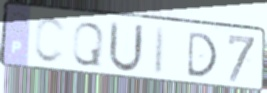7: (226, 33, 257, 84)
C: (32, 15, 68, 66)
D: (185, 30, 220, 79)
I: (152, 26, 168, 78)
Q: (70, 21, 107, 69)
U: (106, 19, 146, 76)
